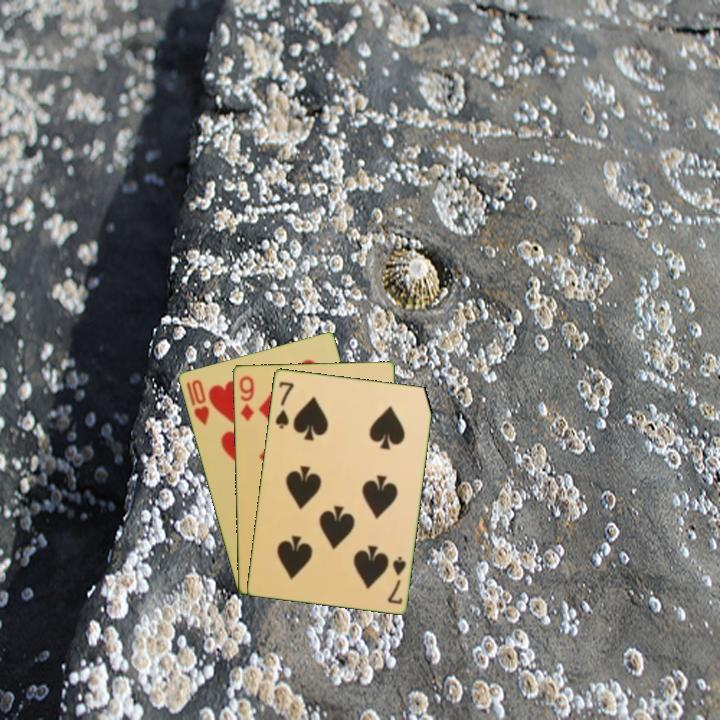10h: (182, 376, 212, 428)
7s: (271, 377, 296, 431), (384, 553, 409, 607)
9d: (236, 372, 256, 424)
